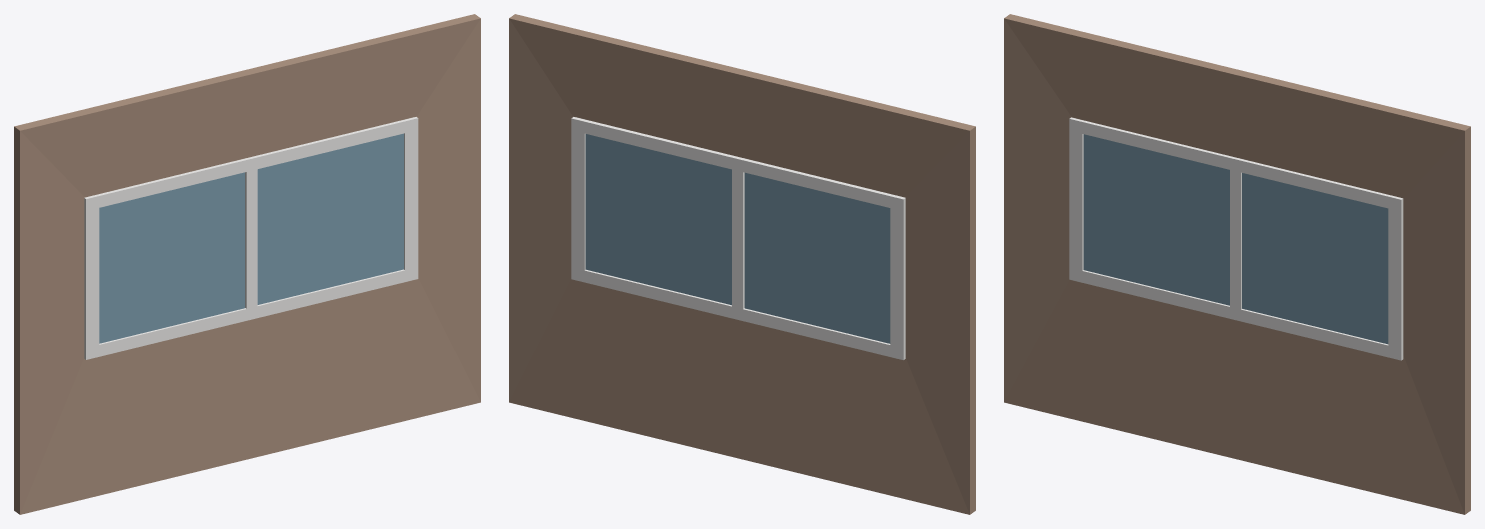
Rendered from Wall_2.fbx.
The picture shows the model from 3 angles, left to right: view 1: azimuth 30°, elevation 25°; view 2: azimuth 150°, elevation 25°; view 3: azimuth 330°, elevation 25°; orthographic projection.
Visible parts, largest first — view 1: Wall_2; view 2: Wall_2; view 3: Wall_2.
Part boxes in pixels (bbox=[...]): Wall_2: bbox=[14, 14, 480, 514]; Wall_2: bbox=[509, 14, 975, 514]; Wall_2: bbox=[1004, 14, 1470, 514].
Bounding box in the file's own units: 489 × 13.1 × 390.
